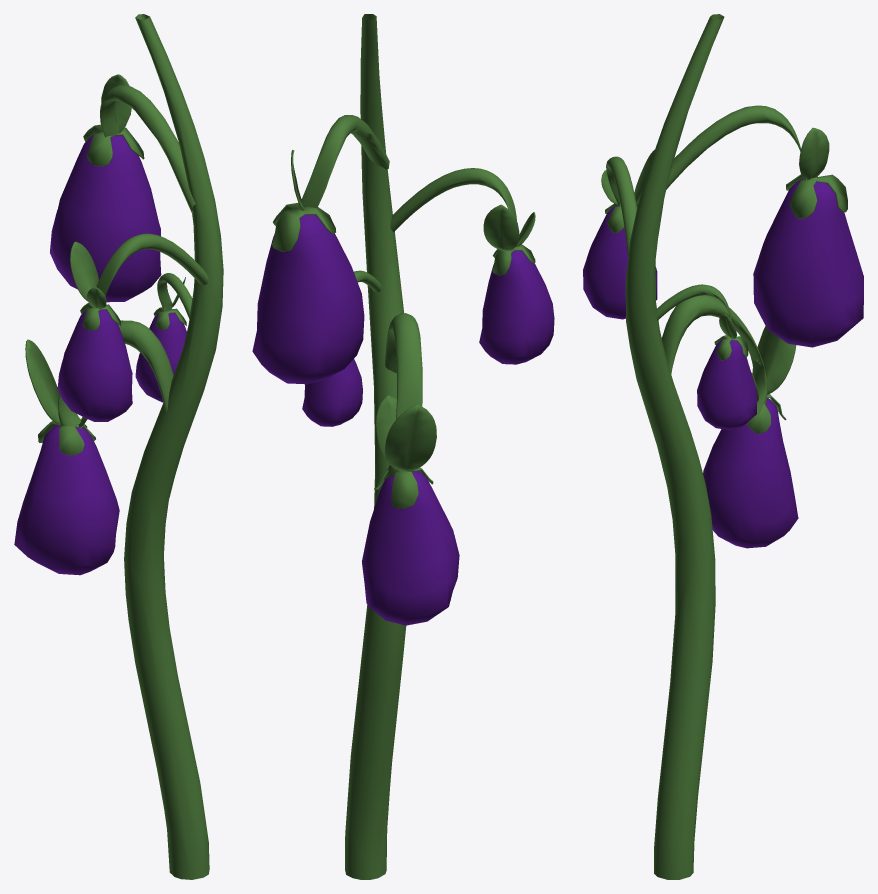
The model's file is 2ºFase_Berejena.fbx.
3 views of the same model, side by side, from view 1: azimuth 30°, elevation 25°; view 2: azimuth 150°, elevation 25°; view 3: azimuth 270°, elevation 25° (orthographic). The views are drawn at different scales.
Parts seen in each view (by area): view 1: NurbsPath, Cube.008, Cube.010, Cube.011, NurbsPath.001, NurbsPath.002, NurbsPath.003, Cube.009, Circle.001, Circle.007, Circle.005, Circle.009 (+3 smaller); view 2: NurbsPath, Cube.008, Cube.010, Cube.011, NurbsPath.002, Cube.009, NurbsPath.001, Circle.001, NurbsPath.003, Circle.007, Circle.005, Circle.009 (+2 smaller); view 3: NurbsPath, Cube.008, Cube.010, Cube.009, Cube.011, NurbsPath.002, NurbsPath.001, Circle.001, Circle.007, NurbsPath.003, Circle.002, NurbsPath.004 (+1 smaller).
Part boxes in pixels (left/top/right/bottom): NurbsPath: left=124, top=14, right=223, bottom=879; Cube.008: left=50, top=131, right=161, bottom=302; Cube.010: left=14, top=425, right=119, bottom=575; Cube.011: left=57, top=308, right=132, bottom=421; NurbsPath.001: left=100, top=85, right=195, bottom=213; NurbsPath.002: left=58, top=320, right=173, bottom=428; NurbsPath.003: left=90, top=233, right=208, bottom=309; Cube.009: left=135, top=311, right=186, bottom=402; Circle.001: left=25, top=339, right=60, bottom=424; Circle.007: left=83, top=124, right=144, bottom=166; Circle.005: left=70, top=241, right=98, bottom=301; Circle.009: left=38, top=421, right=95, bottom=455; NurbsPath: left=345, top=14, right=406, bottom=879; Cube.008: left=252, top=214, right=364, bottom=384; Cube.010: left=362, top=470, right=459, bottom=625; Cube.011: left=479, top=250, right=554, bottom=364; NurbsPath.002: left=384, top=313, right=422, bottom=480; Cube.009: left=302, top=359, right=362, bottom=426; NurbsPath.001: left=301, top=115, right=389, bottom=208; Circle.001: left=385, top=404, right=436, bottom=471; NurbsPath.003: left=390, top=168, right=516, bottom=254; Circle.007: left=272, top=203, right=335, bottom=251; Circle.005: left=483, top=204, right=519, bottom=250; Circle.009: left=374, top=467, right=433, bottom=508; NurbsPath: left=625, top=14, right=724, bottom=879; Cube.008: left=753, top=179, right=863, bottom=347; Cube.010: left=703, top=398, right=798, bottom=548; Cube.009: left=697, top=338, right=756, bottom=429; Cube.011: left=583, top=205, right=657, bottom=319; NurbsPath.002: left=661, top=295, right=767, bottom=417; NurbsPath.001: left=666, top=105, right=807, bottom=189; Circle.001: left=752, top=326, right=796, bottom=394; Circle.007: left=786, top=174, right=847, bottom=218; NurbsPath.003: left=606, top=156, right=637, bottom=256; Circle.002: left=799, top=127, right=829, bottom=179; NurbsPath.004: left=656, top=284, right=732, bottom=340.
Size of the model in its own units: 46.71 by 207 by 62.6.
